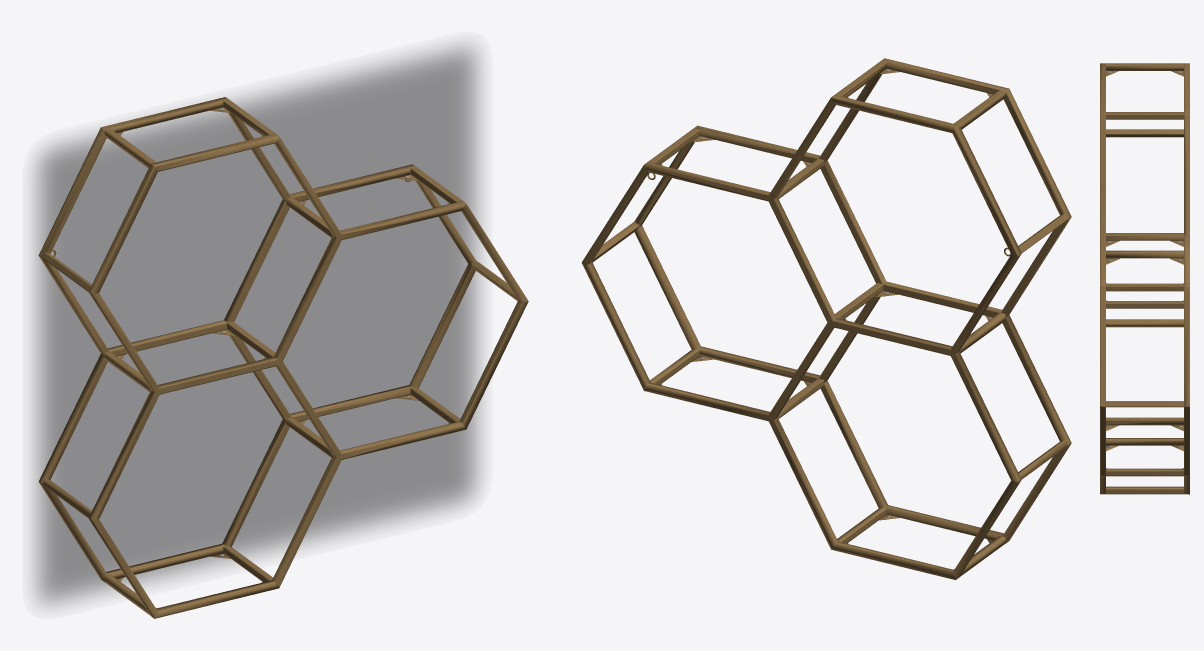
File: abo-b07hsphzxd.a2453a823d.ar.glb
3 renders of one model, left to right at view 1: azimuth 30°, elevation 25°; view 2: azimuth 150°, elevation 25°; view 3: azimuth 270°, elevation 25°, orthographic. The views are drawn at different scales.
Parts seen in each view (by area): view 1: object 2, RootNode; view 2: RootNode; view 3: RootNode.
Boxes of the visible parts, x1=… form: object 2: x1=34, y1=45, x2=480, y2=605; RootNode: x1=38, y1=97, x2=528, y2=618; RootNode: x1=581, y1=58, x2=1071, y2=579; RootNode: x1=1100, y1=63, x2=1189, y2=494.
Bounding box in the file's own units: 0.7877 × 0.7808 × 0.1502.
Materials: 2 (2 with a texture image).
